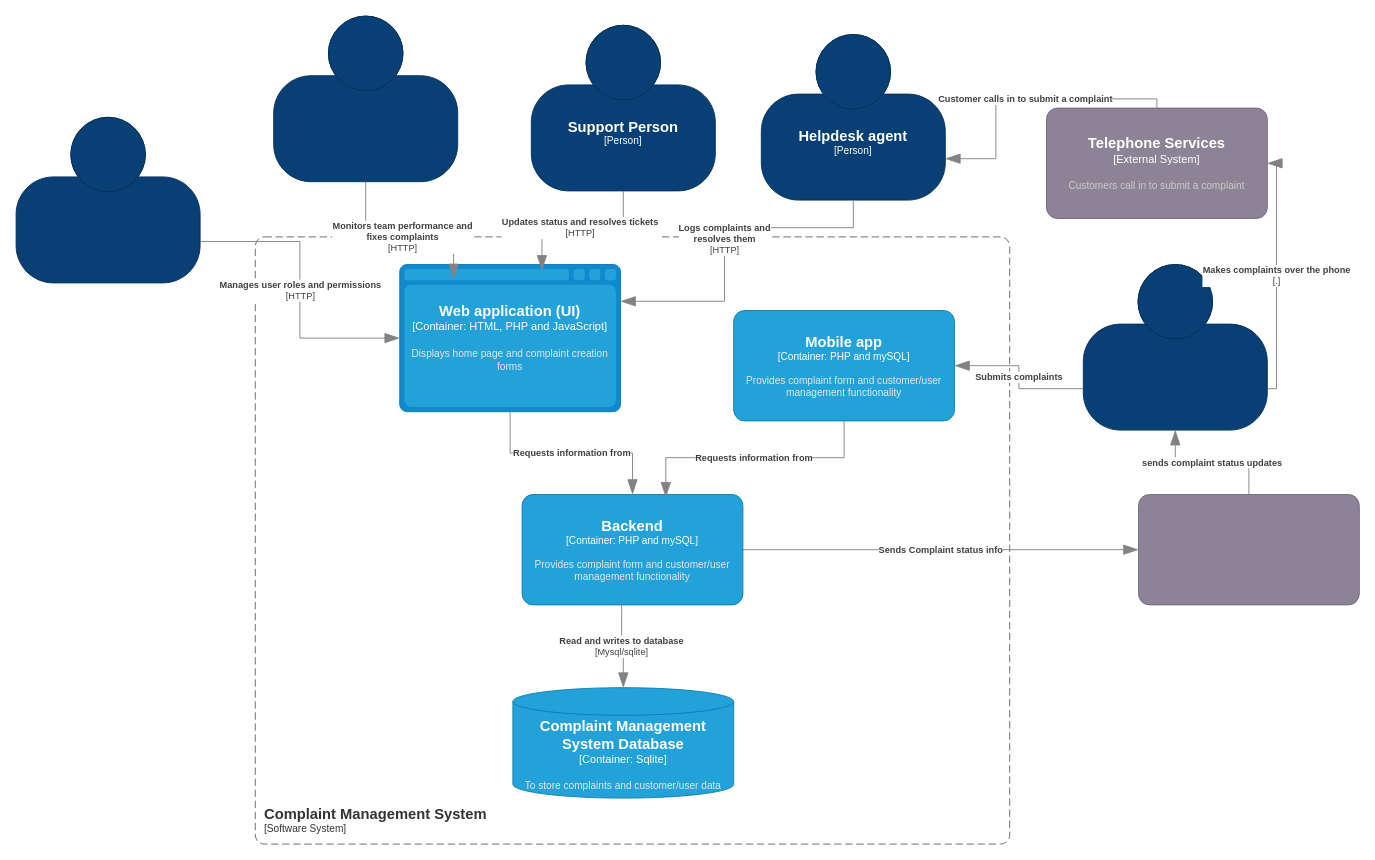
This 1375x860 diagram has some shape labels left out. The shapes that lost their labels are listed below. From the top down, each one's box as (x1, y1, x2, y2) in pixels, then its label:
(273, 15, 458, 182): Company Manager [Person]
(15, 116, 200, 283): Admin [Person]
(1082, 264, 1267, 430): Customer [Person]
(1138, 494, 1359, 605): Email system [External System] Sends email status of complaint and resolution
